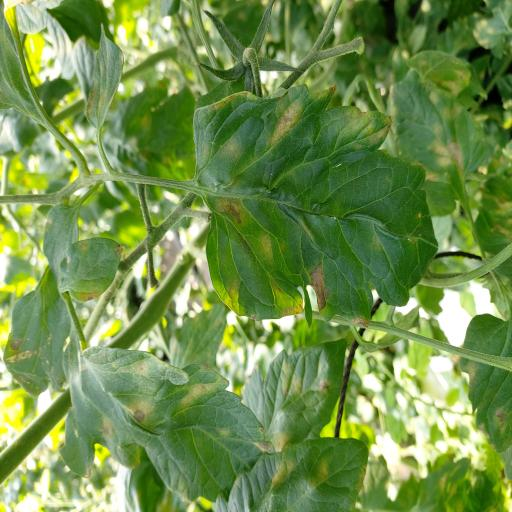Leaf Mold: (193, 82, 439, 323), (62, 325, 276, 502), (389, 67, 487, 217), (214, 434, 371, 512), (242, 338, 347, 454)
